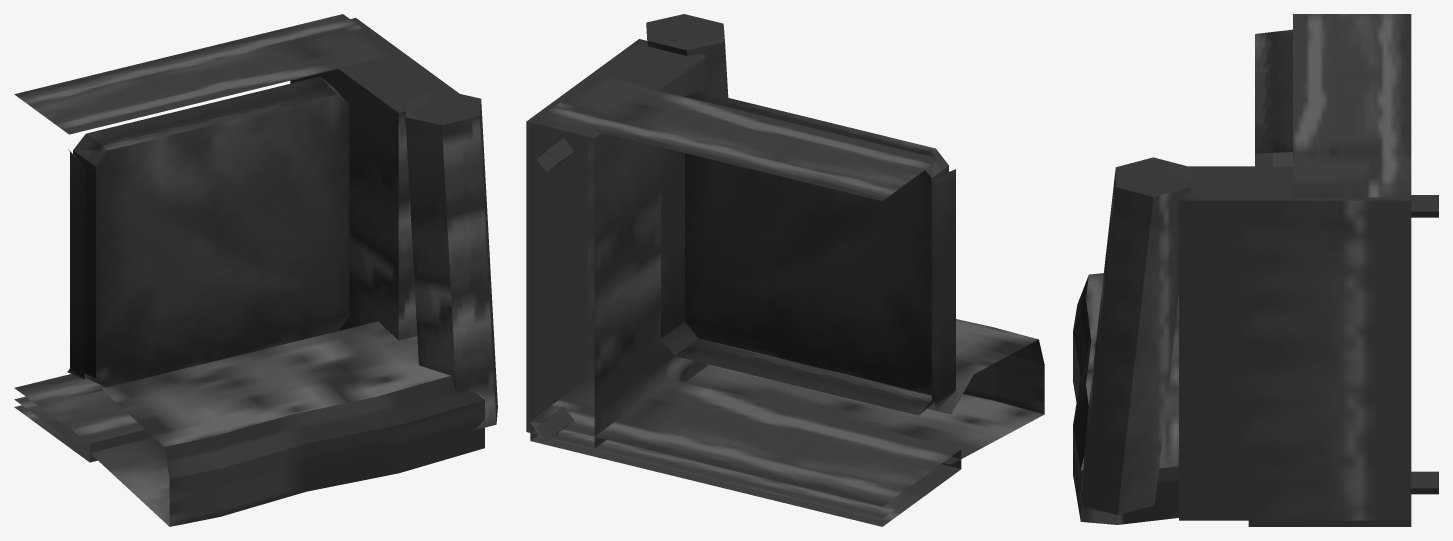
Rendered from pz_sofa_seating_indoor_03_victorian_c4_1_0_fidelity_r1.obj.
The picture shows the model from 3 angles, left to right: view 1: azimuth 30°, elevation 25°; view 2: azimuth 150°, elevation 25°; view 3: azimuth 270°, elevation 25°; orthographic projection. The views are drawn at different scales.
Parts seen in each view (by area): view 1: pz_sofa_seating_indoor_03_victorian_c4_1_0__seat_1__seat, pz_sofa_seating_indoor_03_victorian_c4_1_0__sculpted_back__back, pz_sofa_seating_indoor_03_victorian_c4_1_0__chester_roll_1__arm, pz_sofa_seating_indoor_03_victorian_c4_1_0__chester_side_1__arm, pz_sofa_seating_indoor_03_victorian_c4_1_0__lower_body__body, pz_sofa_seating_indoor_03_victorian_c4_1_0__rear_body_bridge__bo, pz_sofa_seating_indoor_03_victorian_c4_1_0__seat_0__seat; view 2: pz_sofa_seating_indoor_03_victorian_c4_1_0__seat_1__seat, pz_sofa_seating_indoor_03_victorian_c4_1_0__lower_body__body, pz_sofa_seating_indoor_03_victorian_c4_1_0__rear_body_bridge__bo, pz_sofa_seating_indoor_03_victorian_c4_1_0__chester_side_1__arm, pz_sofa_seating_indoor_03_victorian_c4_1_0__sculpted_back__back, pz_sofa_seating_indoor_03_victorian_c4_1_0__seat_0__seat, pz_sofa_seating_indoor_03_victorian_c4_1_0__chester_roll_1__arm, pz_sofa_seating_indoor_03_victorian_c4_1_0__foot_1_-1__frame, pz_sofa_seating_indoor_03_victorian_c4_1_0__foot_1_1__frame; view 3: pz_sofa_seating_indoor_03_victorian_c4_1_0__chester_side_1__arm, pz_sofa_seating_indoor_03_victorian_c4_1_0__chester_roll_1__arm, pz_sofa_seating_indoor_03_victorian_c4_1_0__lower_body__body, pz_sofa_seating_indoor_03_victorian_c4_1_0__sculpted_back__back, pz_sofa_seating_indoor_03_victorian_c4_1_0__seat_1__seat, pz_sofa_seating_indoor_03_victorian_c4_1_0__rear_body_bridge__bo, pz_sofa_seating_indoor_03_victorian_c4_1_0__foot_1_-1__frame, pz_sofa_seating_indoor_03_victorian_c4_1_0__foot_1_1__frame.
Part boxes in pixels (x1,y1,x2,y2): pz_sofa_seating_indoor_03_victorian_c4_1_0__seat_1__seat: (73,76,349,387); pz_sofa_seating_indoor_03_victorian_c4_1_0__sculpted_back__back: (80,321,484,526); pz_sofa_seating_indoor_03_victorian_c4_1_0__chester_roll_1__arm: (405,90,497,429); pz_sofa_seating_indoor_03_victorian_c4_1_0__chester_side_1__arm: (290,18,459,340); pz_sofa_seating_indoor_03_victorian_c4_1_0__lower_body__body: (14,14,400,439); pz_sofa_seating_indoor_03_victorian_c4_1_0__rear_body_bridge__bo: (14,374,153,462); pz_sofa_seating_indoor_03_victorian_c4_1_0__seat_0__seat: (67,149,84,379); pz_sofa_seating_indoor_03_victorian_c4_1_0__seat_1__seat: (661,90,948,415); pz_sofa_seating_indoor_03_victorian_c4_1_0__lower_body__body: (530,75,939,518); pz_sofa_seating_indoor_03_victorian_c4_1_0__rear_body_bridge__bo: (530,374,961,526); pz_sofa_seating_indoor_03_victorian_c4_1_0__chester_side_1__arm: (526,39,707,448); pz_sofa_seating_indoor_03_victorian_c4_1_0__sculpted_back__back: (663,319,1044,464); pz_sofa_seating_indoor_03_victorian_c4_1_0__seat_0__seat: (935,169,955,408); pz_sofa_seating_indoor_03_victorian_c4_1_0__chester_roll_1__arm: (646,14,728,97); pz_sofa_seating_indoor_03_victorian_c4_1_0__foot_1_-1__frame: (536,406,573,440); pz_sofa_seating_indoor_03_victorian_c4_1_0__foot_1_1__frame: (536,138,573,171); pz_sofa_seating_indoor_03_victorian_c4_1_0__chester_side_1__arm: (1179,166,1411,520); pz_sofa_seating_indoor_03_victorian_c4_1_0__chester_roll_1__arm: (1079,157,1191,514); pz_sofa_seating_indoor_03_victorian_c4_1_0__lower_body__body: (1293,14,1411,197); pz_sofa_seating_indoor_03_victorian_c4_1_0__sculpted_back__back: (1073,273,1178,524); pz_sofa_seating_indoor_03_victorian_c4_1_0__seat_1__seat: (1255,29,1292,166); pz_sofa_seating_indoor_03_victorian_c4_1_0__rear_body_bridge__bo: (1248,520,1411,526); pz_sofa_seating_indoor_03_victorian_c4_1_0__foot_1_-1__frame: (1411,471,1438,494); pz_sofa_seating_indoor_03_victorian_c4_1_0__foot_1_1__frame: (1411,195,1438,217).
Bounding box in the file's own units: 0.9946 × 0.8741 × 0.8455.
Materials: 1 (1 with a texture image).
